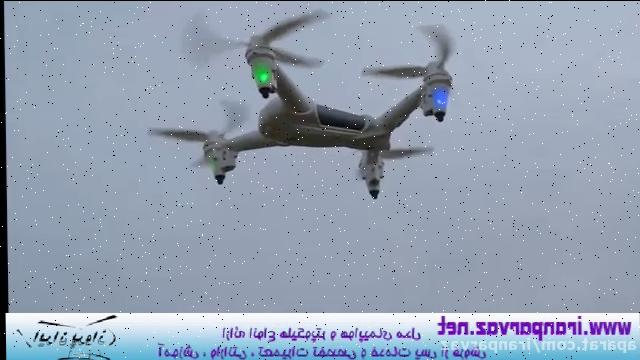drone: (141, 0, 466, 207)
